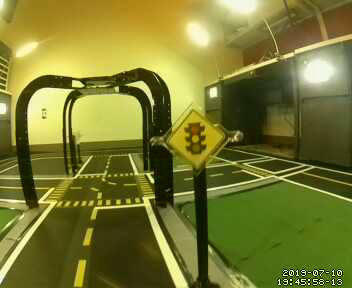Traffic light sign: (165, 108, 227, 171)
